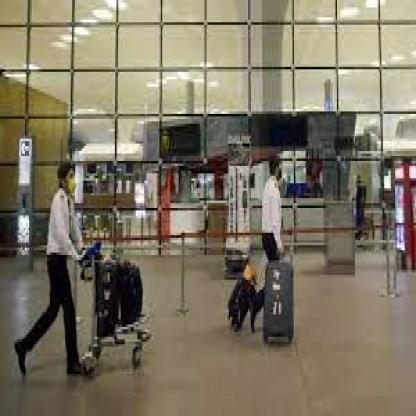airport-trolley: (77, 242, 153, 377)
